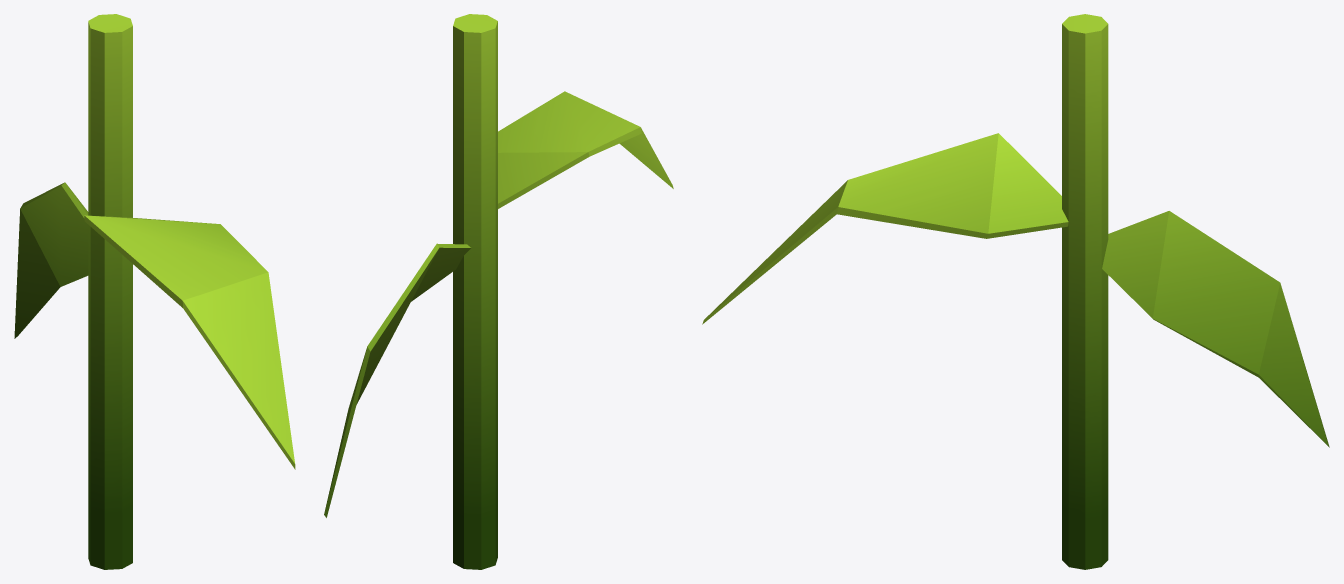
File: FrogSunflower.glb
The picture shows the model from 3 angles, left to right: view 1: azimuth 30°, elevation 25°; view 2: azimuth 150°, elevation 25°; view 3: azimuth 270°, elevation 25°; orthographic projection.
Parts seen in each view (by area): view 1: SunflowerBody; view 2: SunflowerBody; view 3: SunflowerBody.
Part boxes in pixels (bbox=[...]): SunflowerBody: bbox=[14, 14, 295, 569]; SunflowerBody: bbox=[324, 14, 673, 569]; SunflowerBody: bbox=[702, 14, 1329, 569].
Size of the model in its own units: 0.3057 by 1.19 by 1.26.
Materials: 2 (2 with a texture image).
